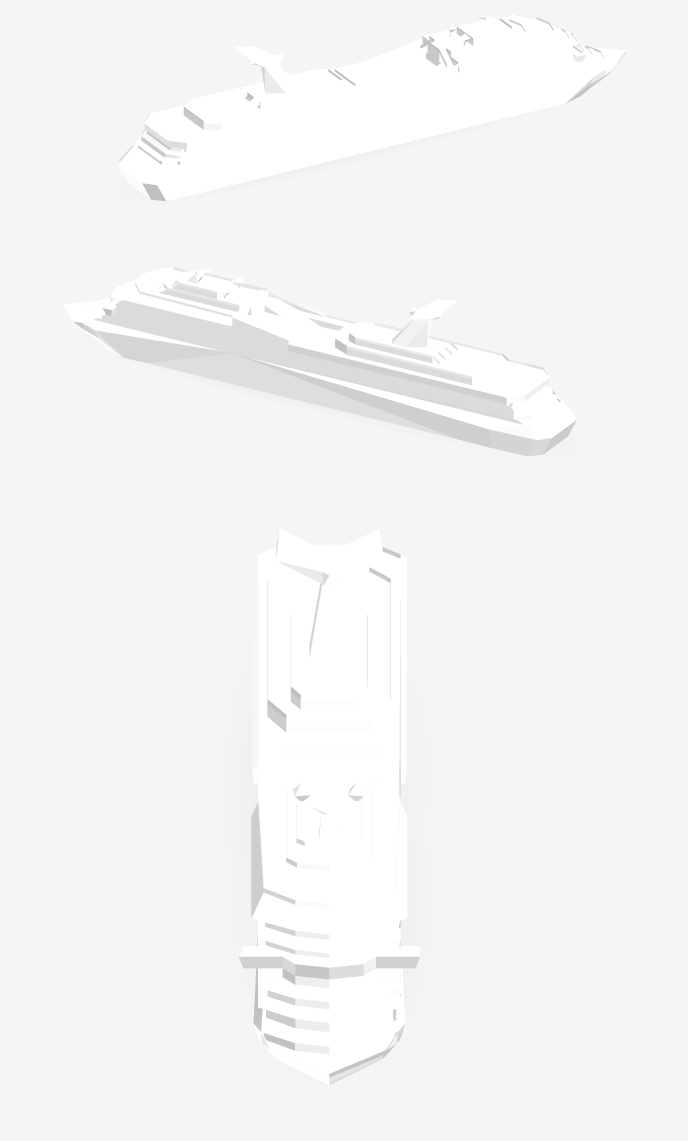
Rendered from AIS_CruiseShip-A_001.glb.
The picture shows the model from 3 angles, top to bottom: view 1: azimuth 30°, elevation 25°; view 2: azimuth 150°, elevation 25°; view 3: azimuth 270°, elevation 25°; orthographic projection. The views are drawn at different scales.
Parts seen in each view (by area): view 1: AIS_CruiseShip-A.002, SurfaceGraphic_whiteGlow.010; view 2: AIS_CruiseShip-A.002, SurfaceGraphic_whiteGlow.010; view 3: AIS_CruiseShip-A.002, SurfaceGraphic_whiteGlow.010.
Boxes of the visible parts, x1,y1,x2,y2 form: AIS_CruiseShip-A.002: [117, 14, 625, 200]; SurfaceGraphic_whiteGlow.010: [205, 121, 494, 192]; AIS_CruiseShip-A.002: [62, 267, 576, 456]; SurfaceGraphic_whiteGlow.010: [158, 366, 459, 440]; AIS_CruiseShip-A.002: [238, 528, 419, 1085]; SurfaceGraphic_whiteGlow.010: [236, 692, 419, 997].
Size of the model in its own units: 332 by 59.72 by 87.38.
2 materials, 1 textured.
